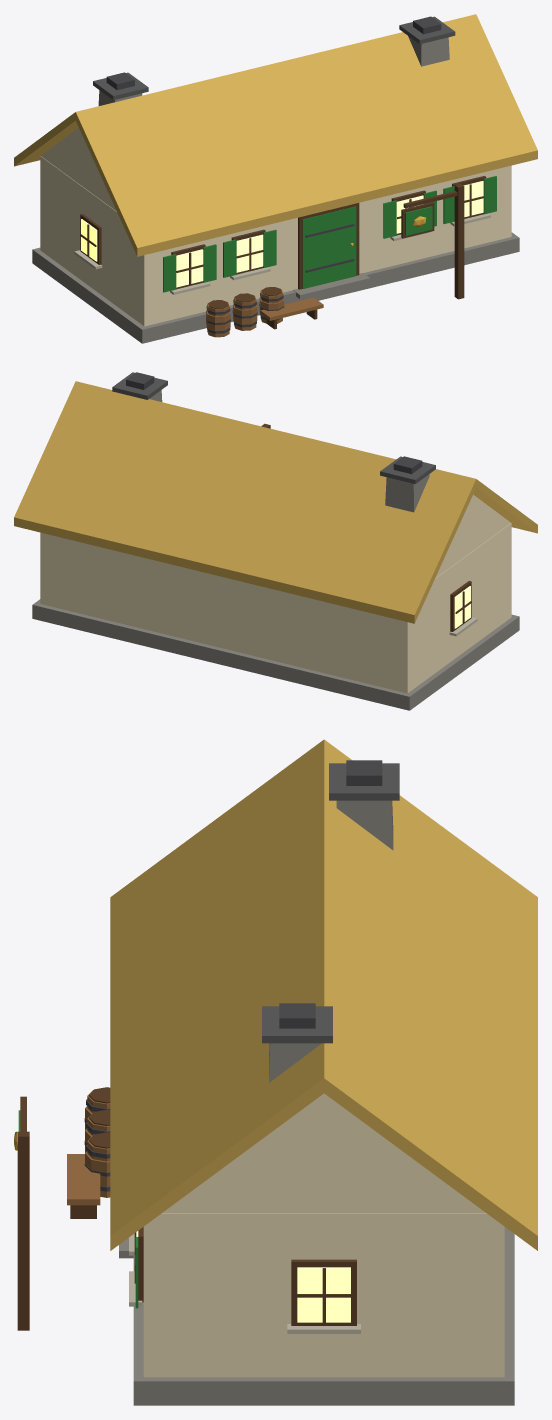
Rendered from inn_green_dragon.glb.
The picture shows the model from 3 angles, top to bottom: view 1: azimuth 30°, elevation 25°; view 2: azimuth 150°, elevation 25°; view 3: azimuth 270°, elevation 25°; orthographic projection. The views are drawn at different scales.
Parts seen in each view (by area): view 1: inn_green_dragon; view 2: inn_green_dragon; view 3: inn_green_dragon.
Part boxes in pixels (<box>): inn_green_dragon: <box>14,14,537,343</box>; inn_green_dragon: <box>14,372,537,710</box>; inn_green_dragon: <box>14,739,537,1405</box>.
Size of what is drawn, in the model's own units: 12 by 5.89 by 7.84.
